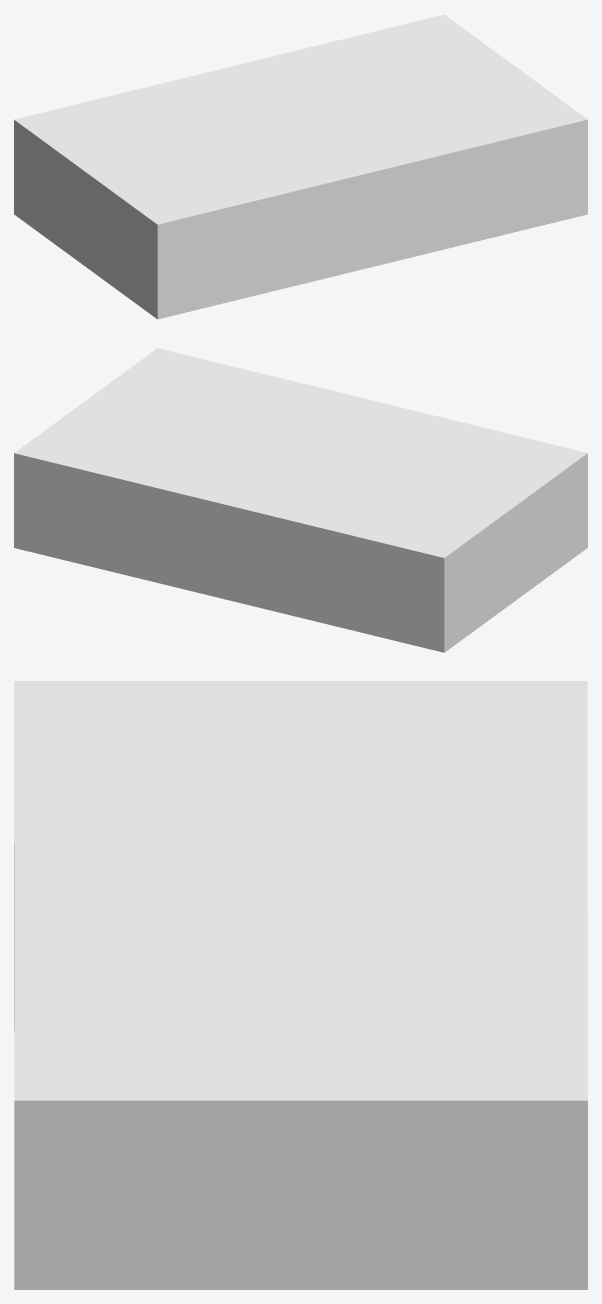
The picture shows the model from 3 angles, top to bottom: view 1: azimuth 30°, elevation 25°; view 2: azimuth 150°, elevation 25°; view 3: azimuth 270°, elevation 25°; orthographic projection. The views are drawn at different scales.
Visible parts, largest first — view 1: mesh00; view 2: mesh00; view 3: mesh00.
Part boxes in pixels (bbox=[...]): mesh00: bbox=[14, 14, 587, 319]; mesh00: bbox=[14, 348, 587, 652]; mesh00: bbox=[14, 681, 587, 1289].
Size of the model in its own units: 10357 by 2179 by 5990.
